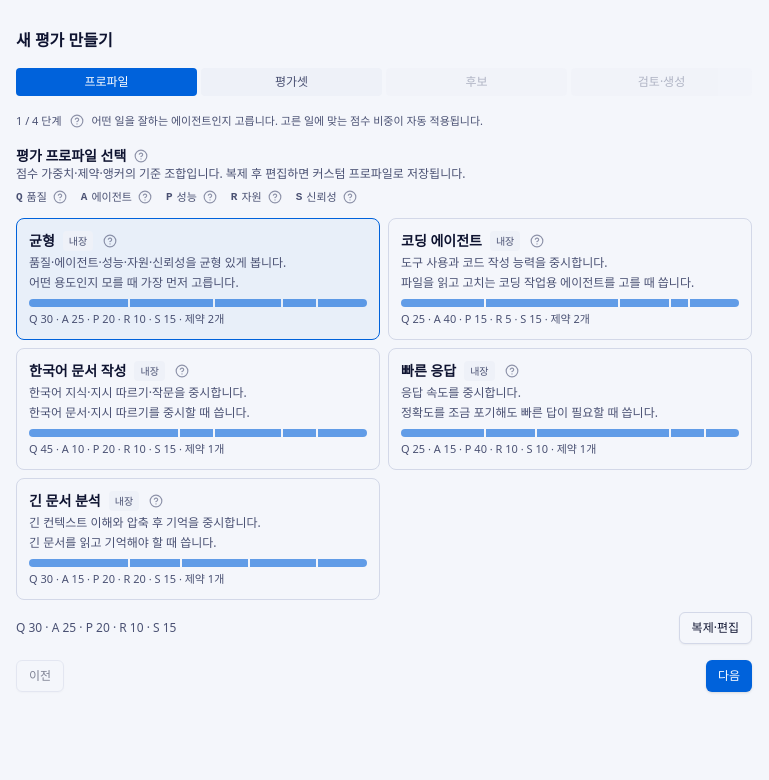
it: EvalRunWizard › navigates steps and gates the review create button on confirmations
Expected: the heading "평가 프로파일 선택" is shown, [16, 146, 148, 165]
Click the button "다음": {"x": 729, "y": 676} [706, 660, 752, 692]
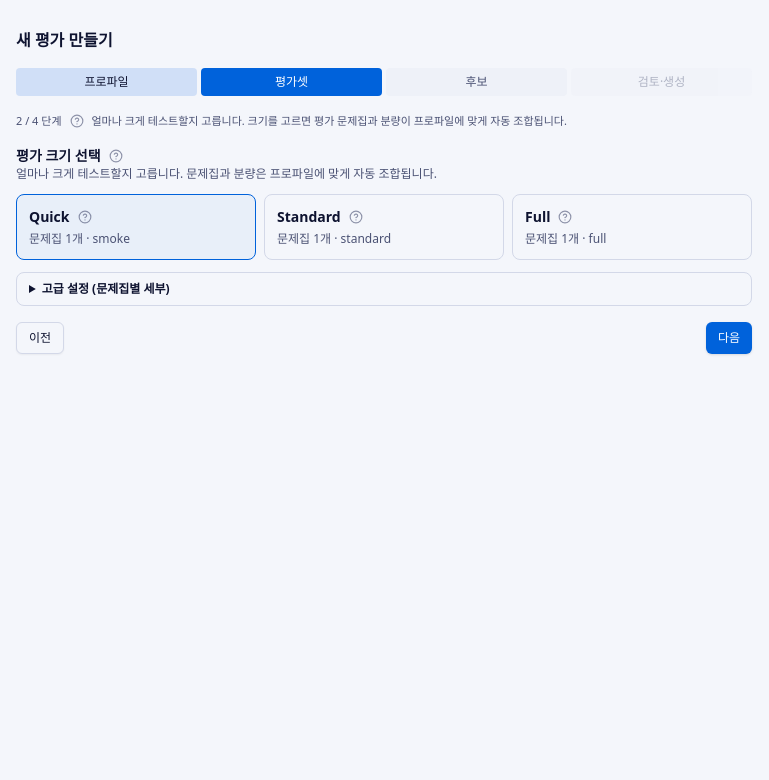
Result: the heading "평가 크기 선택" is shown at [16, 146, 123, 165]
Click the button "다음": {"x": 729, "y": 338} [706, 322, 752, 354]
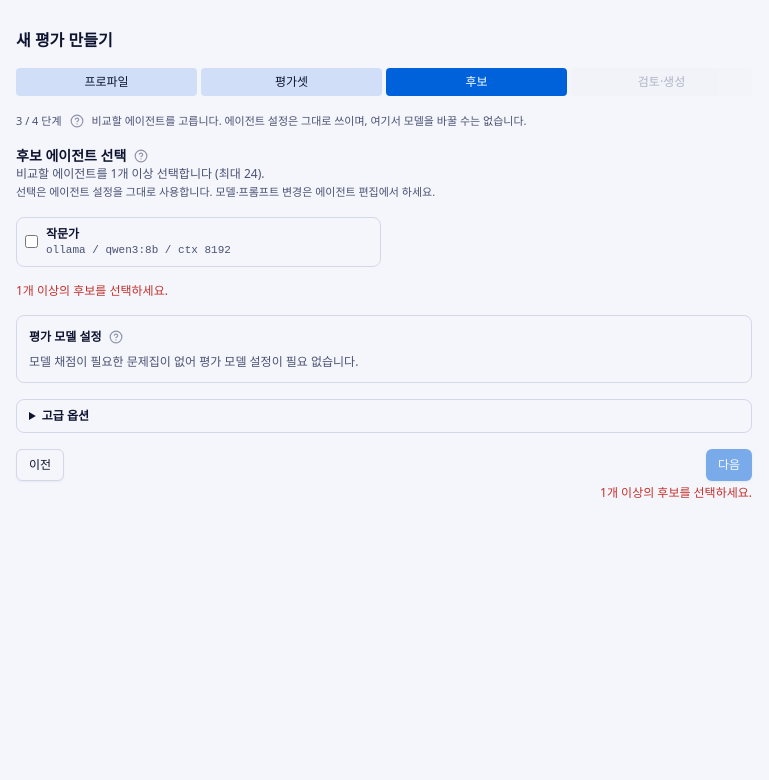
Result: the heading "후보 에이전트 선택" is shown at [16, 146, 148, 165]
Result: the text with test id "next-blocked" reads "1개 이상의 후보를 선택하세요." at [600, 484, 752, 500]
Click the checkbox named "작문가": {"x": 32, "y": 242} [25, 235, 38, 248]
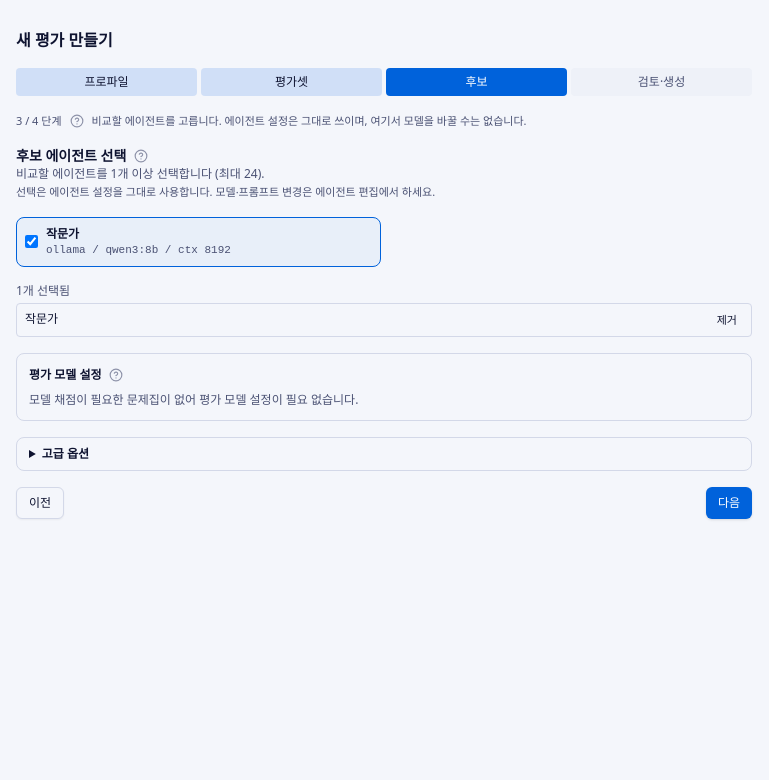
Result: the text with test id "next-blocked" is gone
Click the button "다음": {"x": 729, "y": 502} [706, 486, 752, 518]
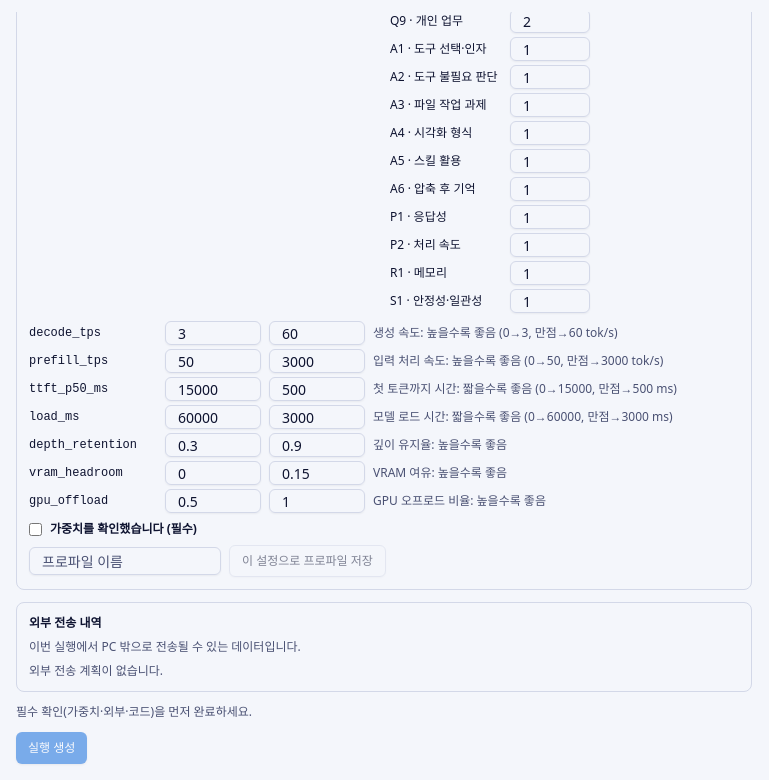
Result: the button "실행 생성" is disabled at [16, 732, 87, 764]
